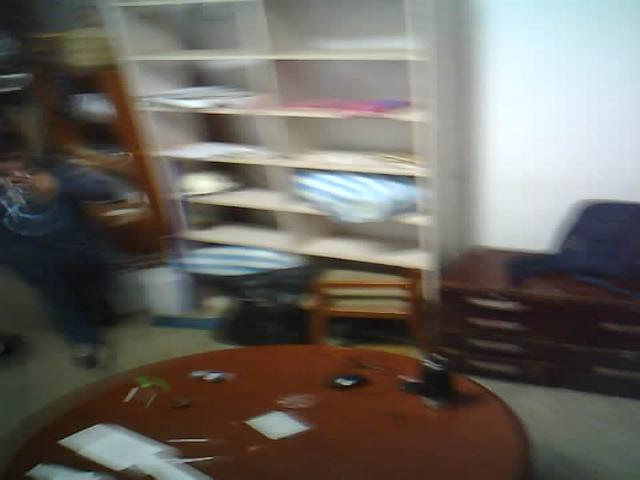person: (5, 112, 179, 391)
